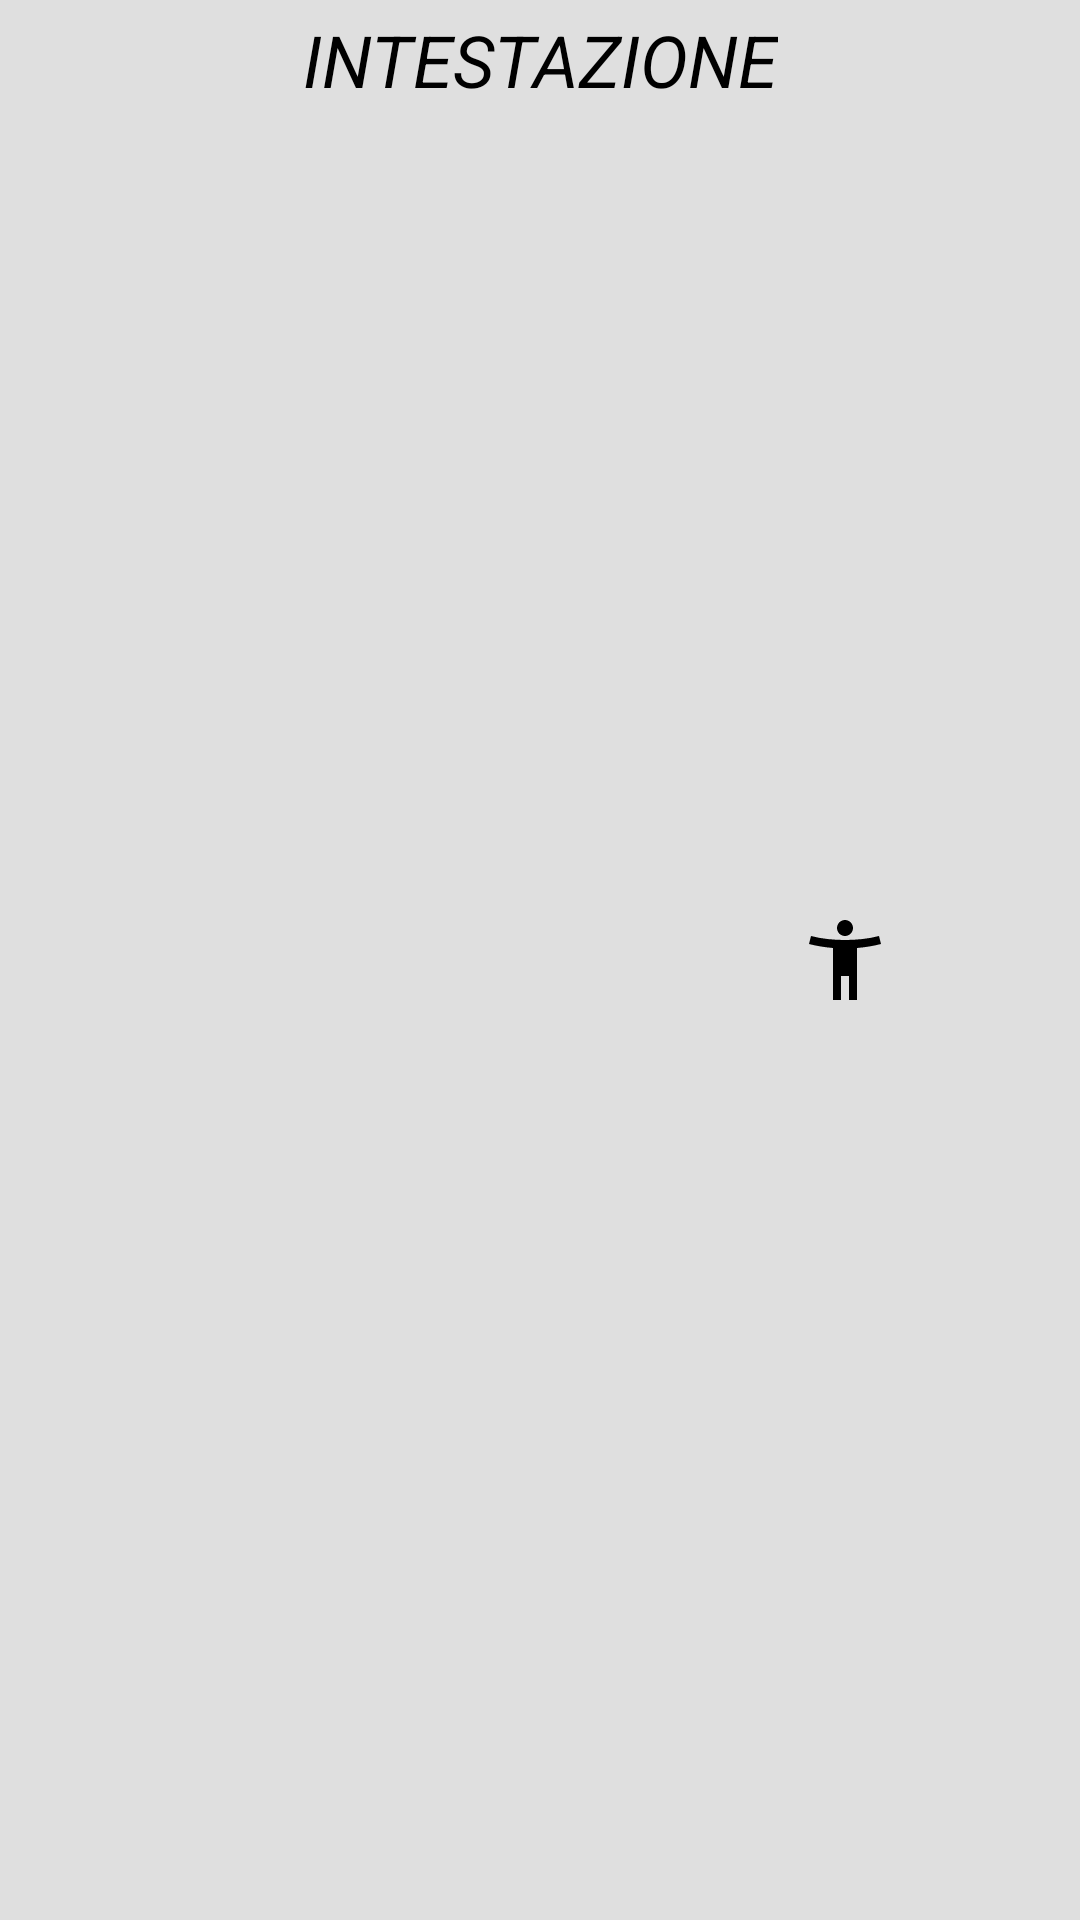

Screen size 1080 x 1920. Icon name, then its box in pixels as detection(x1, y1, x2, y2):
accessibility: detection(809, 920, 881, 1000)
